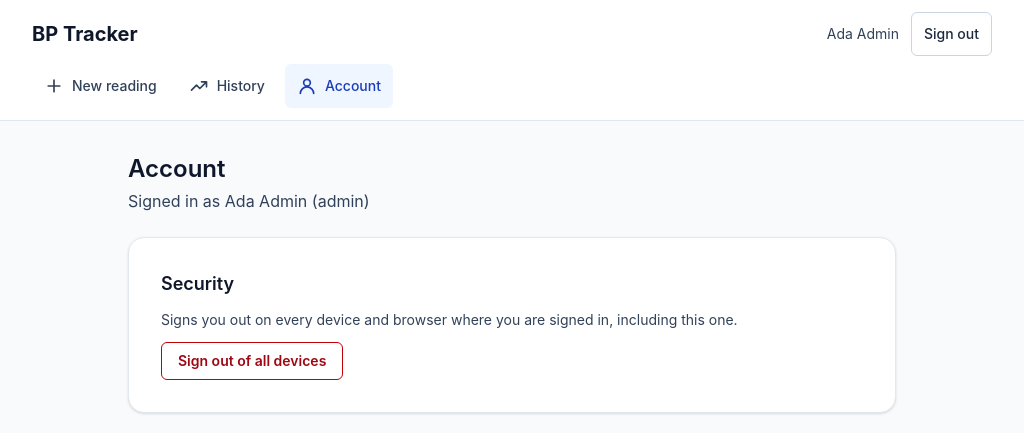
Test: App › offers "Sign out of all devices" on the account page
This screenshot has width=1024, height=433.
Step 1. Click the button "Sign out of all devices" → (252, 361), box [161, 342, 343, 380]
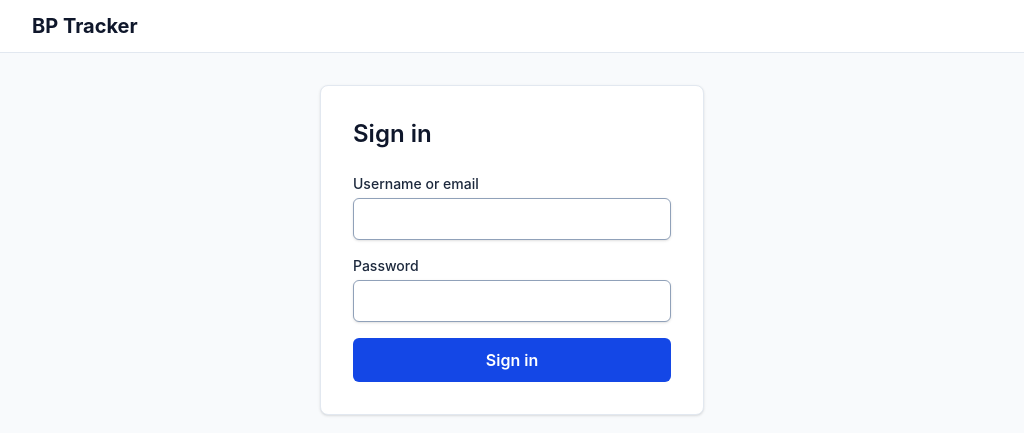
Check: the heading "Sign in" is shown, box [353, 119, 432, 148]
